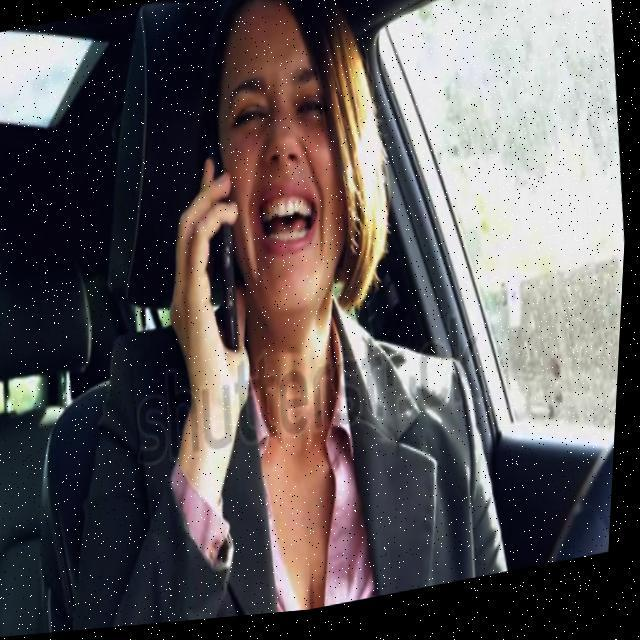PhoneCall: (192, 128, 268, 361)
